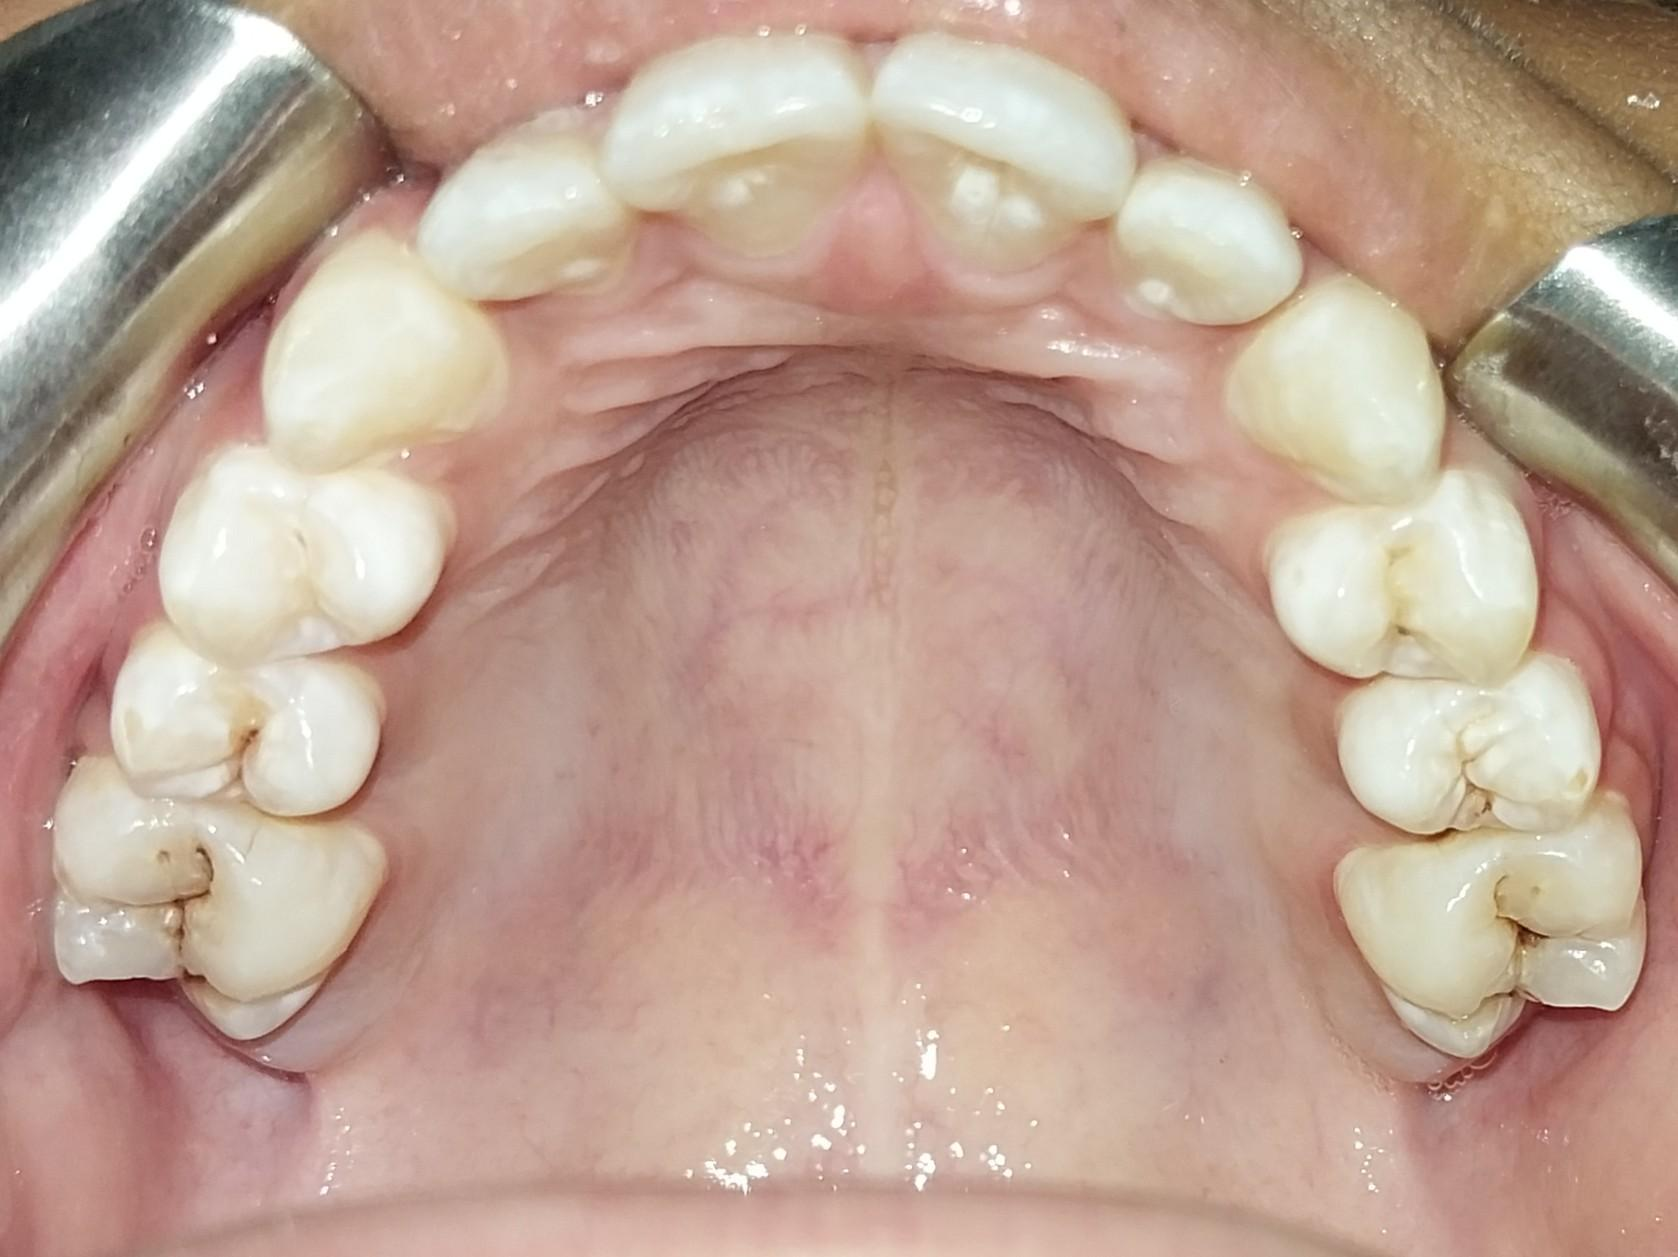D: (47, 760, 387, 1043), (1321, 800, 1651, 1062), (115, 628, 379, 822), (1262, 498, 1534, 681), (1339, 677, 1600, 837)
